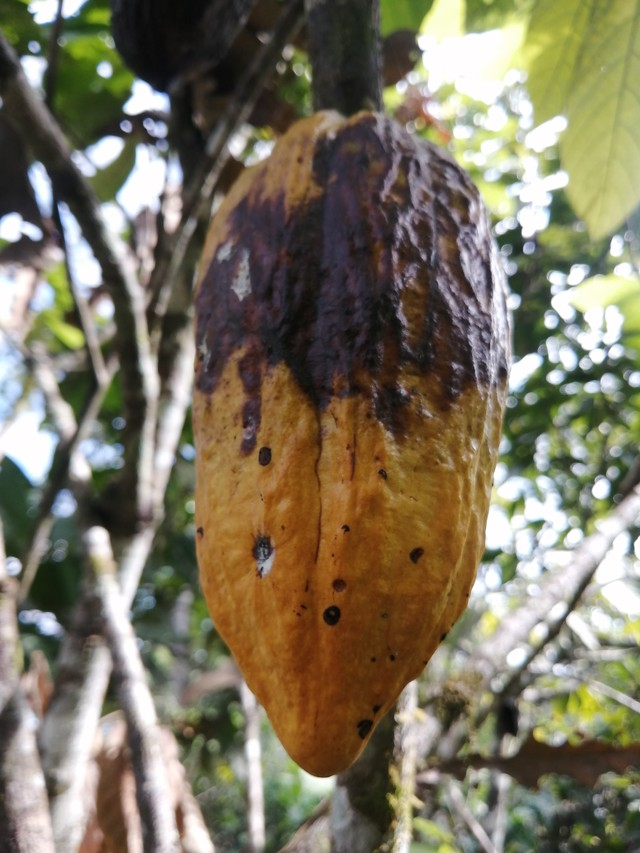phytophthora palmivora: (180, 96, 519, 788)
